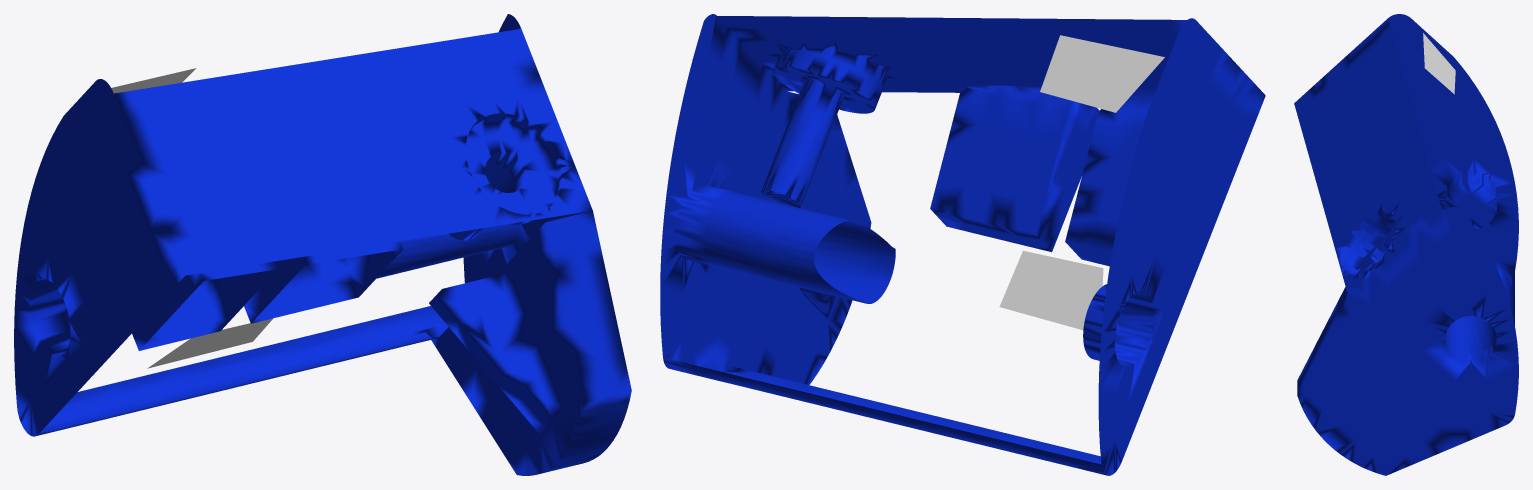
File: cpd_r2.obj
3 renders of one model, left to right at view 1: azimuth 30°, elevation 25°; view 2: azimuth 150°, elevation 25°; view 3: azimuth 270°, elevation 25°, orthographic. The views are drawn at different scales.
Bounding box in the file's own units: 41.57 × 42.9 × 27.47.
